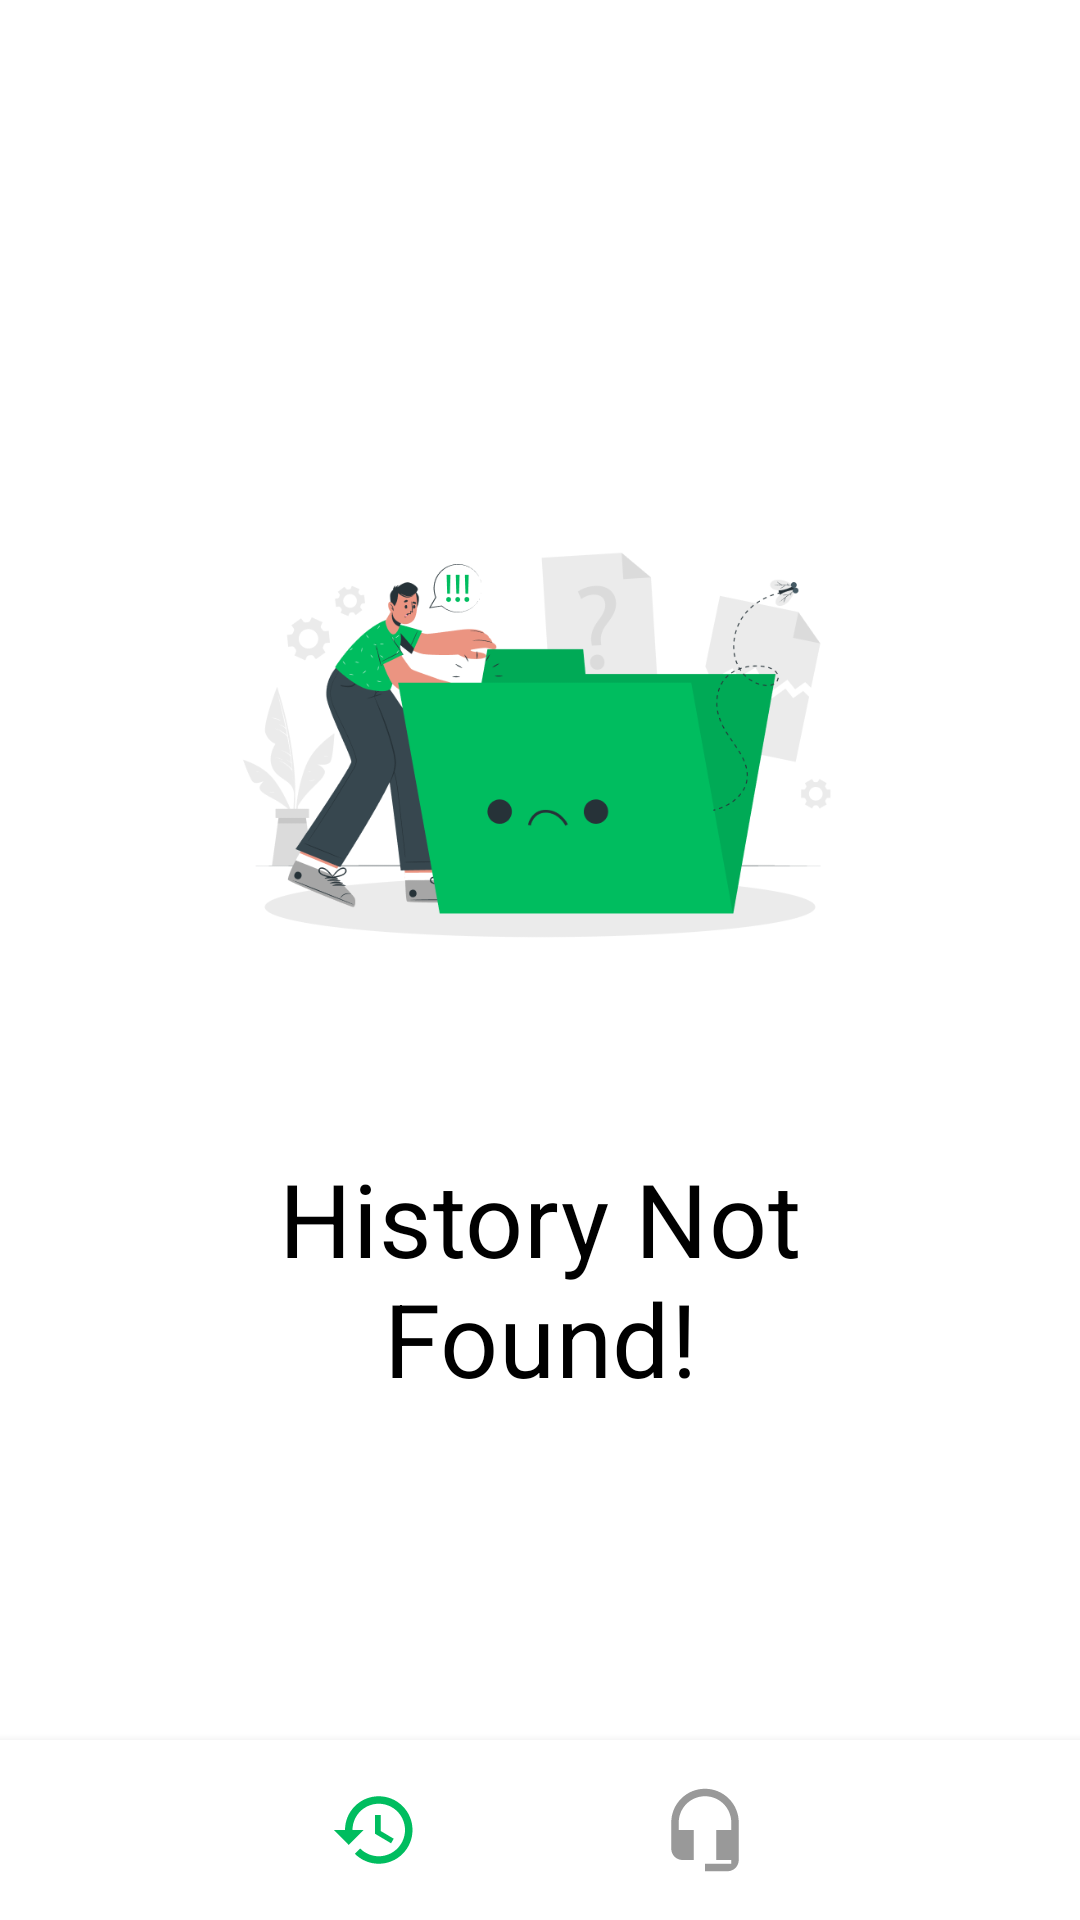

Icons on this 1080 × 1920 Android screen, each with the point to tap as [x,y]:
select history: [373,1830]
unselect headset: [705,1830]
